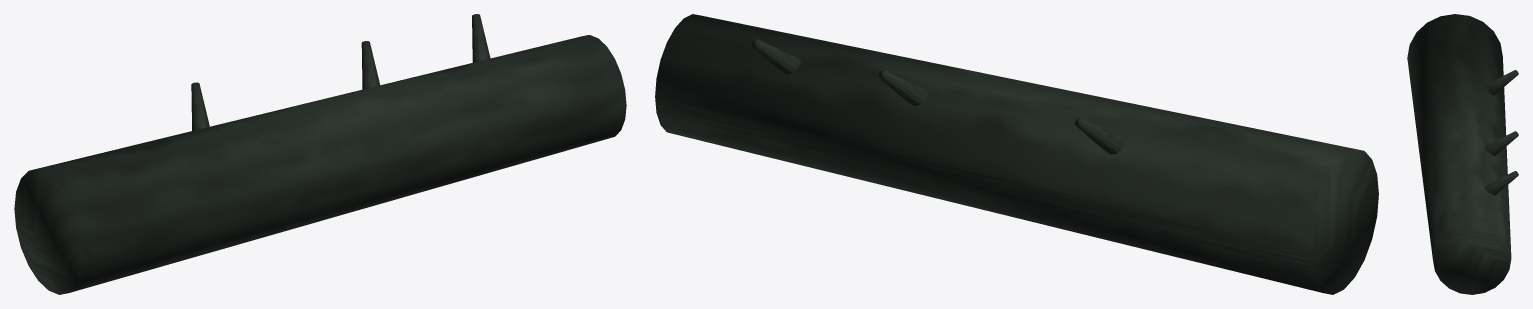
The model's file is low_log.glb.
The picture shows the model from 3 angles, left to right: view 1: azimuth 30°, elevation 25°; view 2: azimuth 150°, elevation 25°; view 3: azimuth 270°, elevation 25°; orthographic projection. The views are drawn at different scales.
Visible parts, largest first — view 1: Fallen_bark, Snapped_limb.002, Snapped_limb, Snapped_limb.001; view 2: Fallen_bark, Snapped_limb, Snapped_limb.001, Snapped_limb.002; view 3: Fallen_bark, Snapped_limb, Snapped_limb.001, Snapped_limb.002.
Boxes of the visible parts, box(x1,y1,x2,y2) form: Fallen_bark: box(14, 35, 626, 294); Snapped_limb.002: box(472, 14, 490, 62); Snapped_limb: box(191, 82, 209, 130); Snapped_limb.001: box(361, 41, 379, 89); Fallen_bark: box(655, 14, 1378, 294); Snapped_limb: box(1075, 117, 1124, 154); Snapped_limb.001: box(878, 69, 927, 105); Snapped_limb.002: box(751, 38, 800, 74); Fallen_bark: box(1407, 14, 1511, 294); Snapped_limb: box(1484, 70, 1518, 95); Snapped_limb.001: box(1484, 131, 1518, 156); Snapped_limb.002: box(1484, 171, 1518, 195).
Size of the model in its own units: 2.82 by 0.633 by 0.6522.
1 material, 1 textured.
